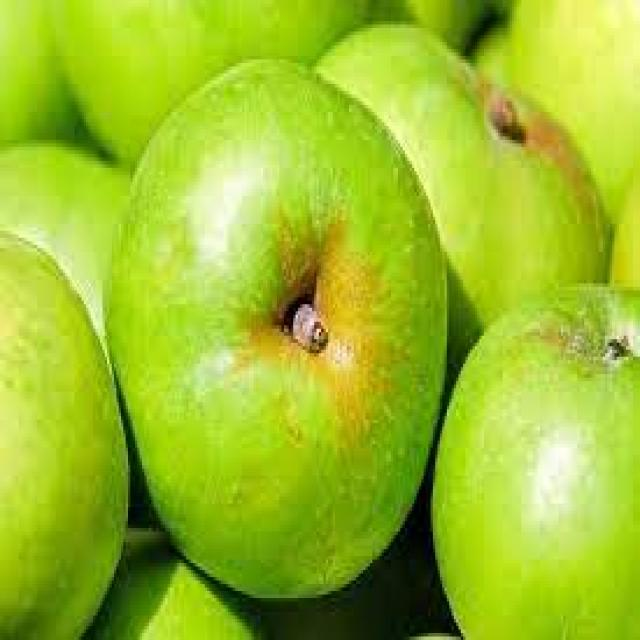apple: (112, 52, 450, 598)
